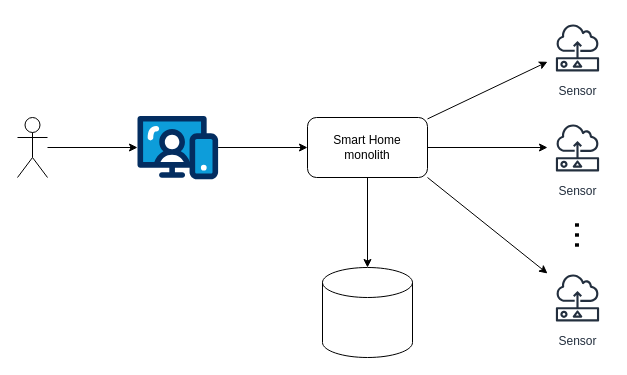
Image size: 627x375. Some labels were removed from this diagram. Each missing label, with the box of its shape:
Actor: (16, 116, 48, 178)
PostgreSQL smart_home: (322, 266, 412, 358)
